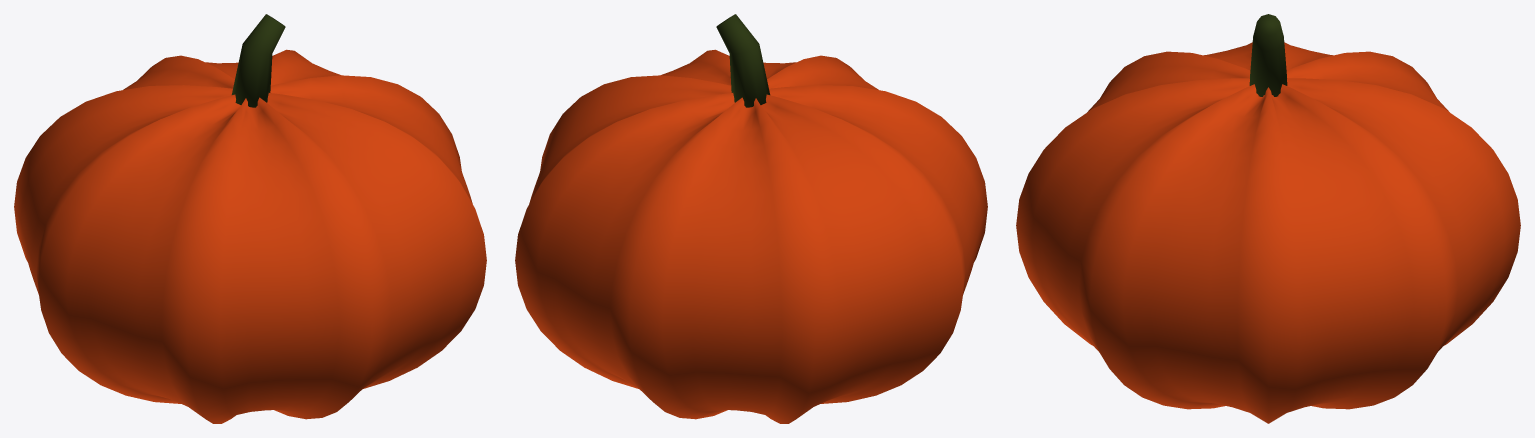
Rendered from pumpkin.obj.
3 views of the same model, side by side, from view 1: azimuth 30°, elevation 25°; view 2: azimuth 150°, elevation 25°; view 3: azimuth 270°, elevation 25° (orthographic). The views are drawn at different scales.
Visible parts, largest first — view 1: LH_pumpkin; view 2: LH_pumpkin; view 3: LH_pumpkin.
Boxes of the visible parts, <box> form: LH_pumpkin: <box>14,14,486,423</box>; LH_pumpkin: <box>515,14,987,423</box>; LH_pumpkin: <box>1016,14,1520,423</box>.
Bounding box in the file's own units: 0.3 × 0.2545 × 0.3.
